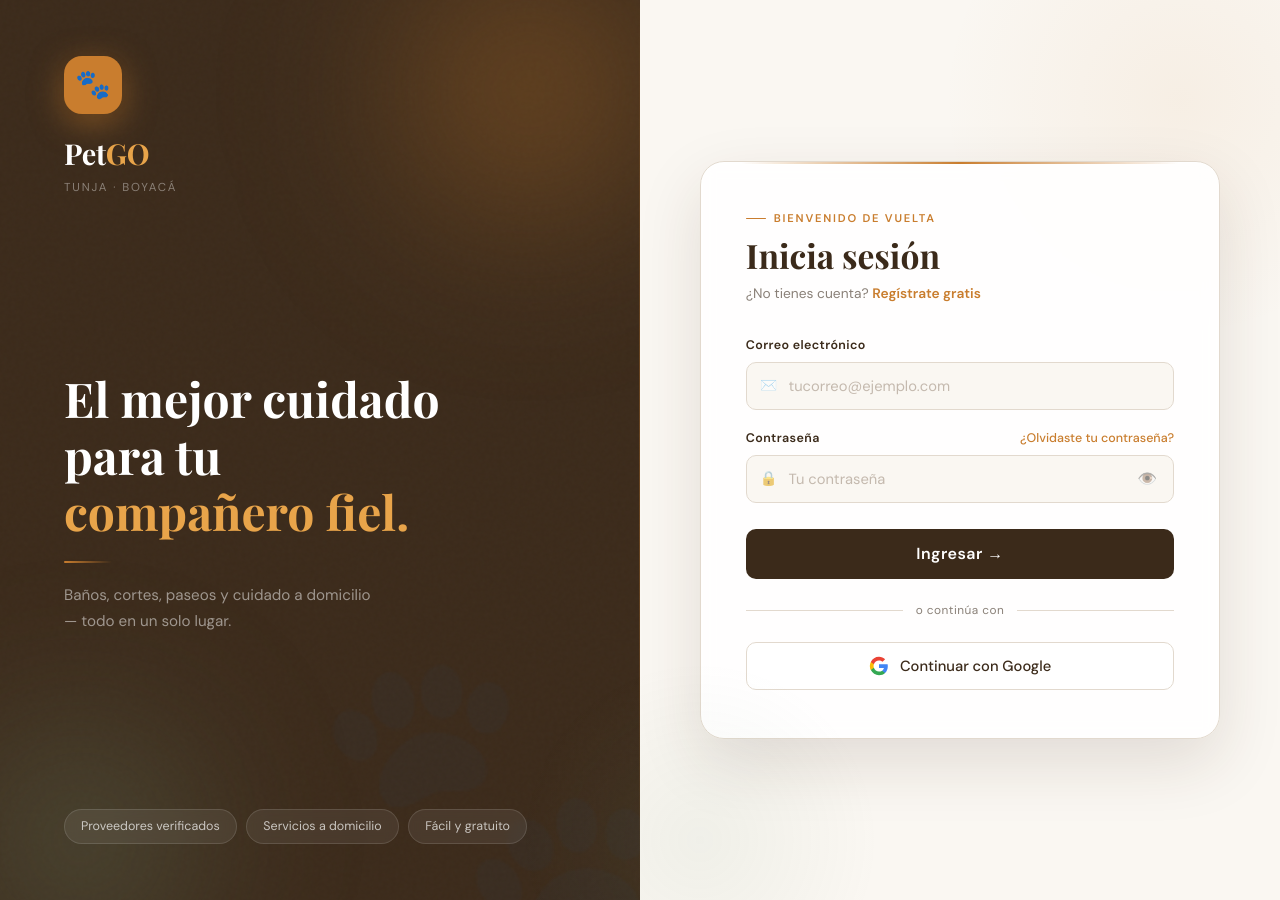
Test: Login - validaciones › muestra error si correo está vacío
Click the button "Ingresar →": {"x": 960, "y": 554} [746,529,1174,579]
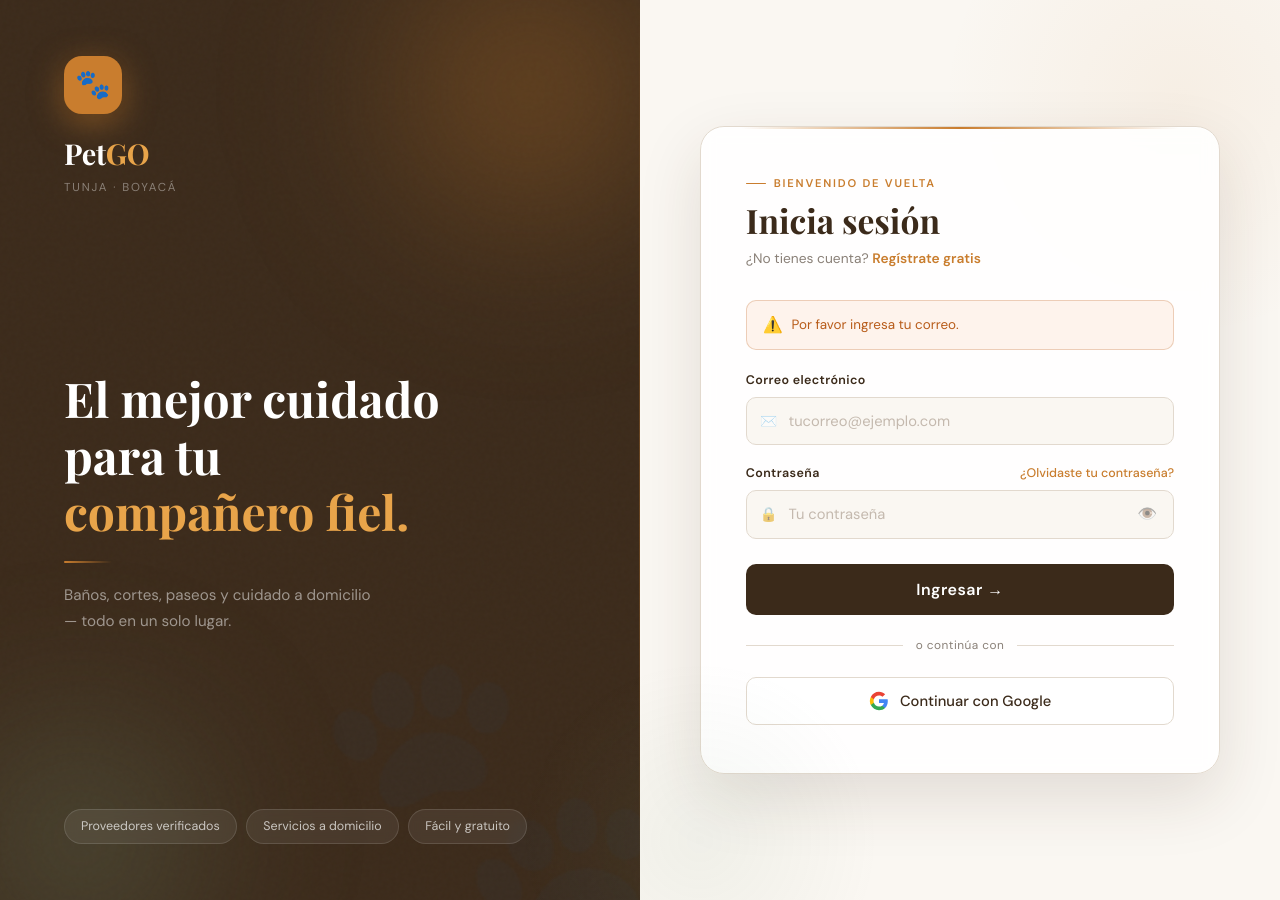
Now the text "Por favor ingresa tu correo." is shown, box [792,316,959,333]
